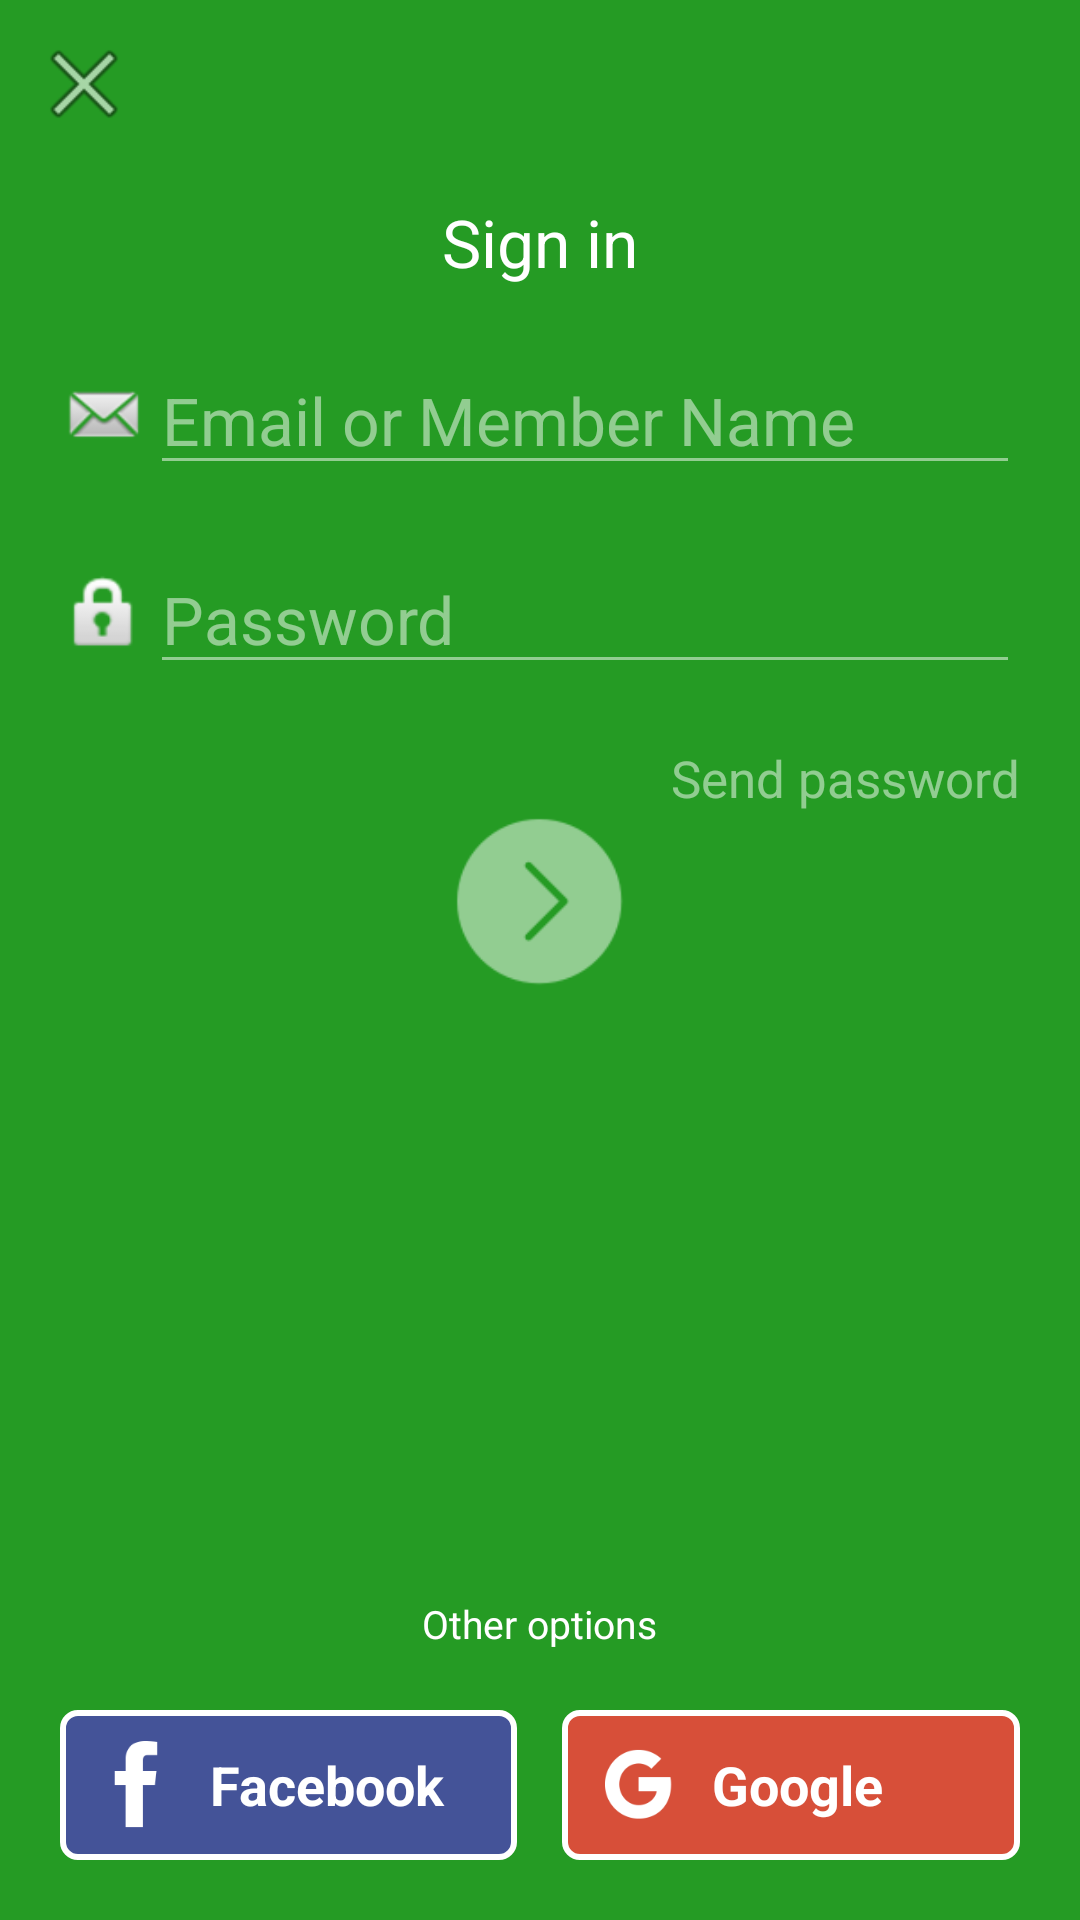

Screen size 1080px×1920px. Icon name, then its center in pixels as (x,y):
close clear cancel: (84,84)
lock idle: (102,611)
next page: (539,901)
sym action email: (104,414)
